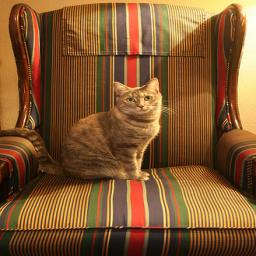catnose: (135, 104, 147, 109)
